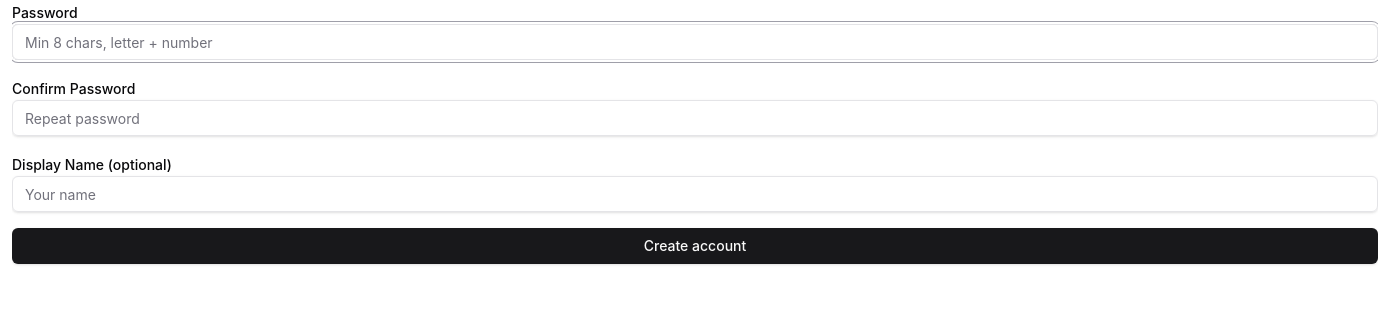
OnboardingForm › shows password strength error for weak password
Type "weak" into the password field labelled "Password".
click(695, 42); type("weak")  # box [12,24,1378,60]
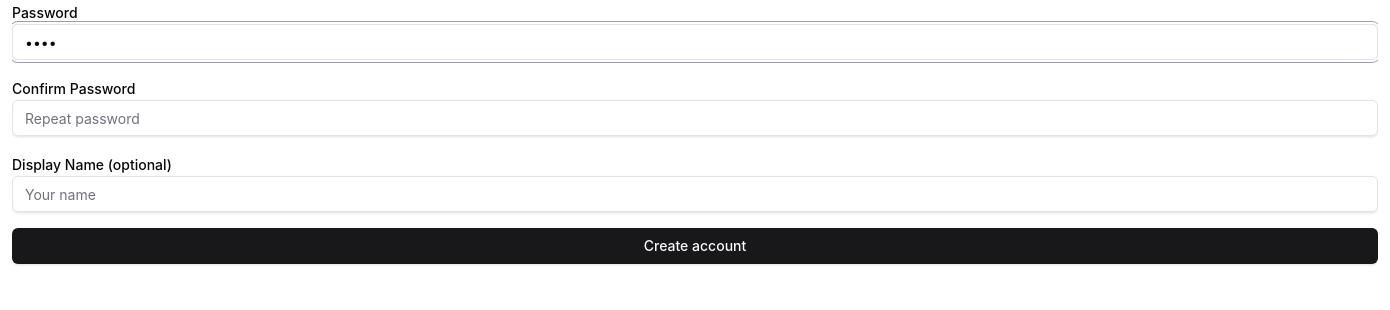
Type "weak" into the password field labelled "Confirm Password".
click(695, 118); type("weak")  # box [12,100,1378,136]
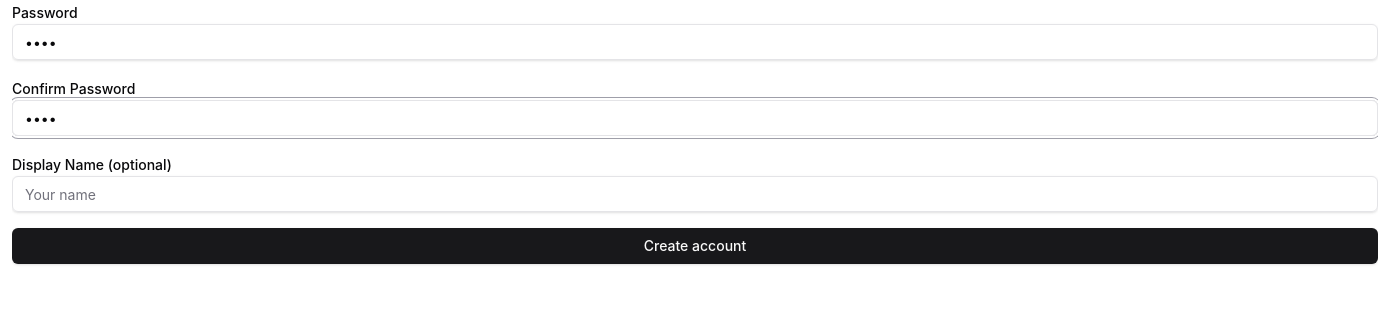
Click the button "Create account".
click(695, 246)  # box [12,228,1378,264]
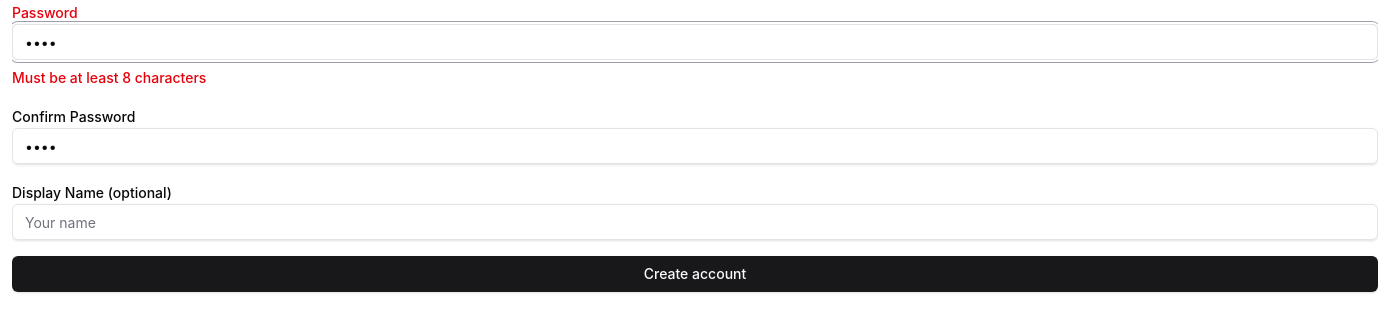
Result: the text "Must be at least 8 characters" is shown at [12,69,206,86]
